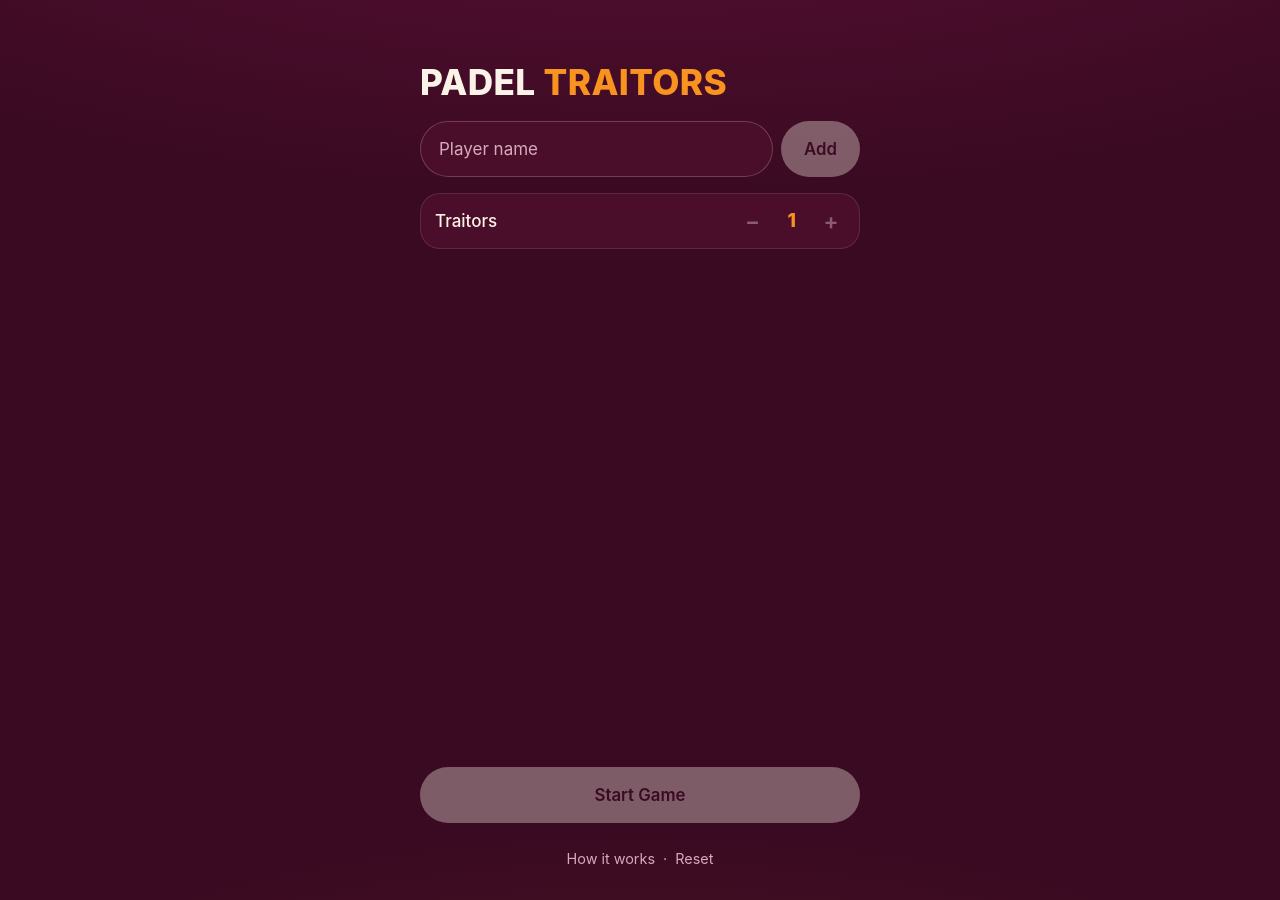
Test case: setup › explains how to play
What coordinates should you click on to do the following:
click the button "How it works"
I would click on:
 (611, 860)
Its box is [563,839,659,880].
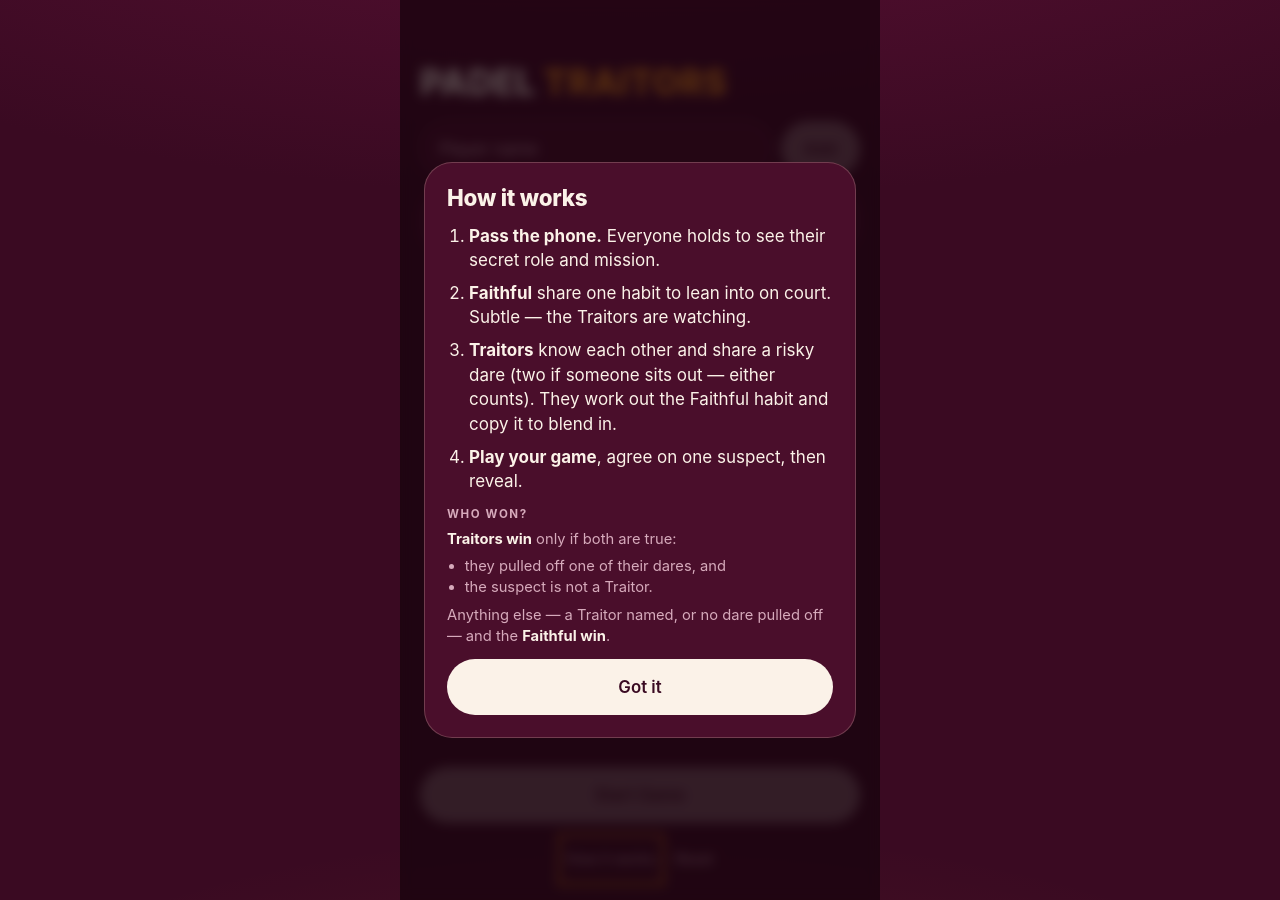
Expected: the dialog "How it works" is shown, [424,162,856,738]
What coordinates should you click on to do the following:
click the button "Got it"
I would click on:
 (640, 687)
Its box is [447,659,833,715].
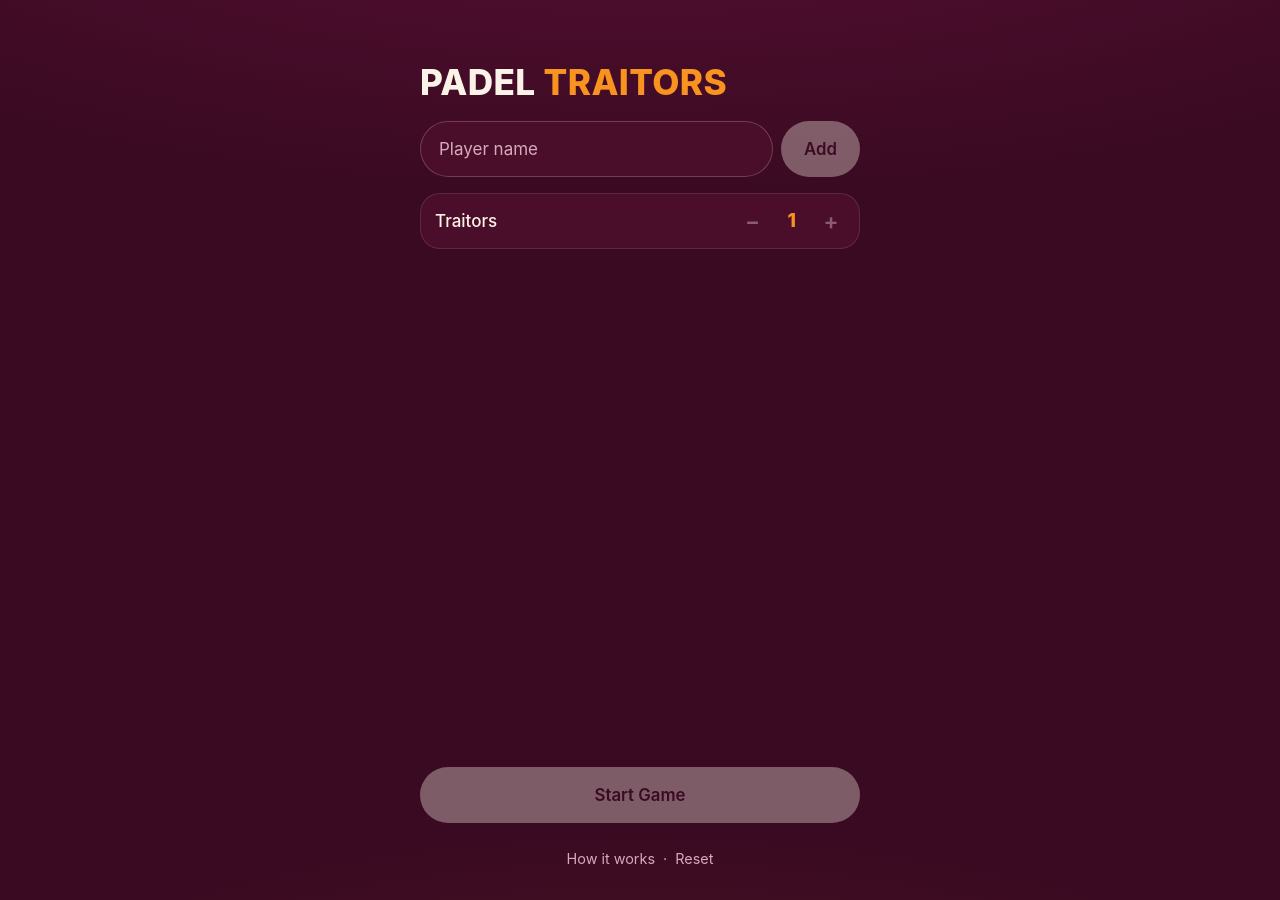
Expected: the dialog is gone
